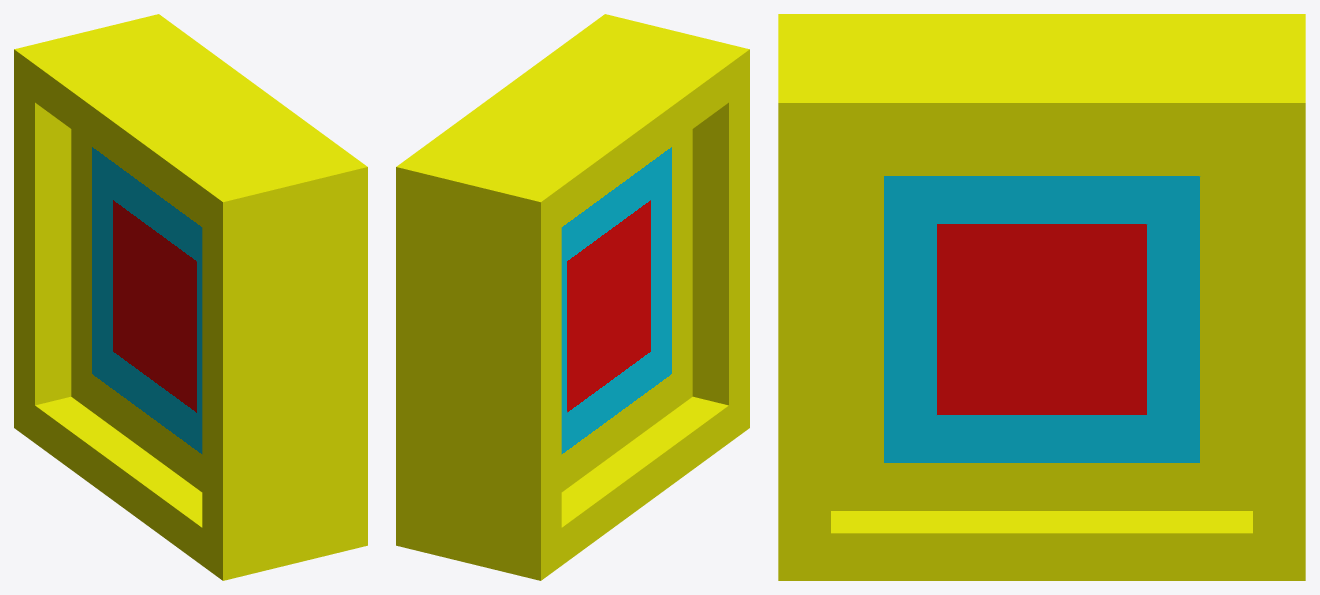
File: Gold.fbx
The picture shows the model from 3 angles, left to right: view 1: azimuth 30°, elevation 25°; view 2: azimuth 150°, elevation 25°; view 3: azimuth 270°, elevation 25°; orthographic projection. The views are drawn at different scales.
Parts seen in each view (by area): view 1: Gold; view 2: Gold; view 3: Gold.
Part boxes in pixels (x1,y1,x2,y2): Gold: (14,14,367,580); Gold: (396,14,749,580); Gold: (778,14,1305,580).
Size of the model in its own units: 4 by 10 by 10.
1 material, 1 textured.
